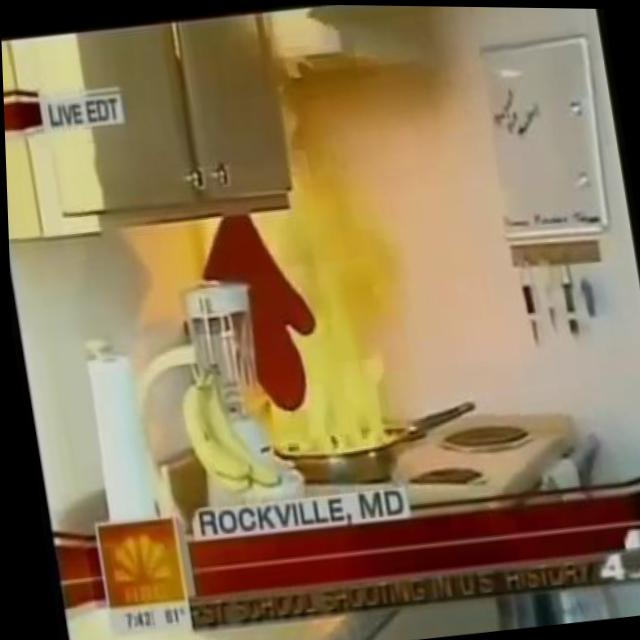fire: (214, 149, 411, 464)
